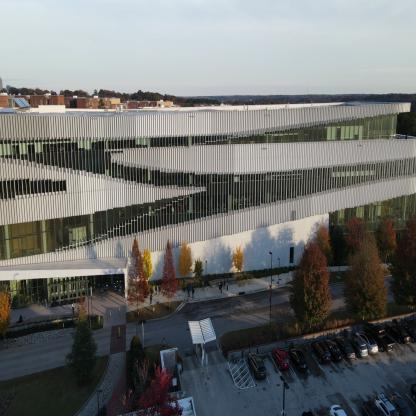Hunt Library: (1, 85, 415, 326)
